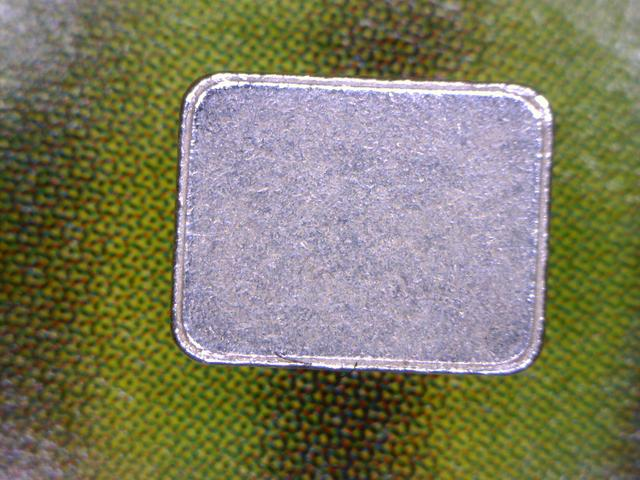nok: (172, 67, 567, 381)
